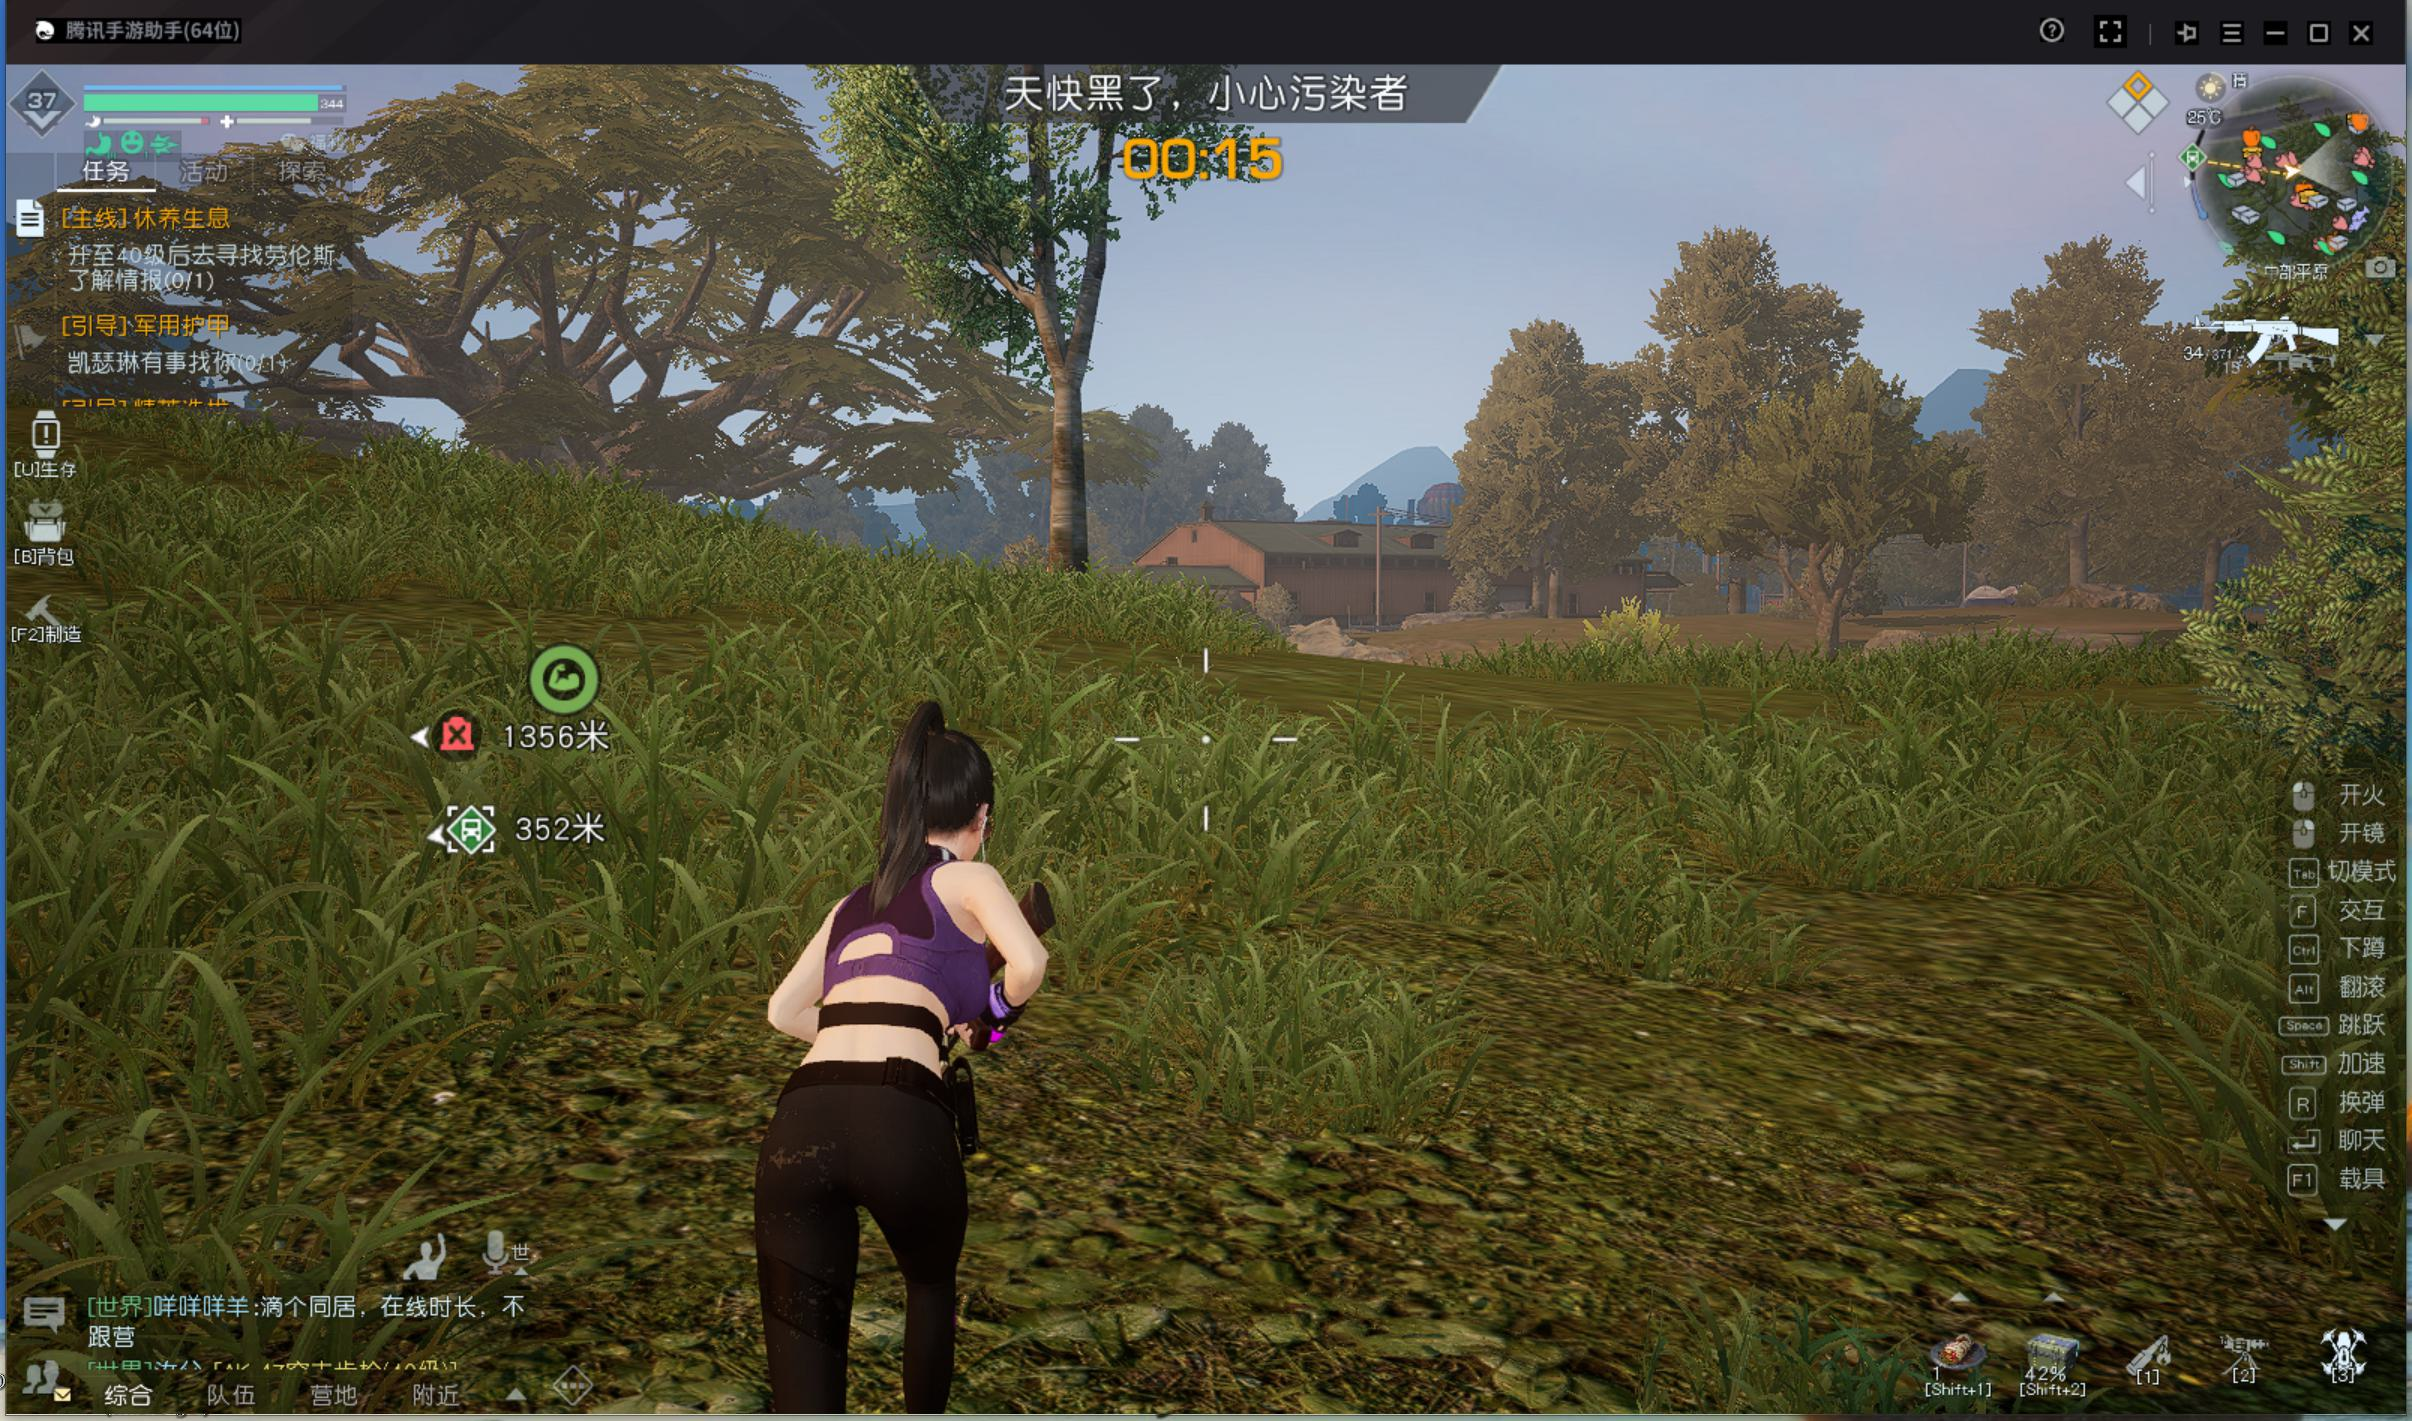tree: (1039, 364, 1106, 612)
